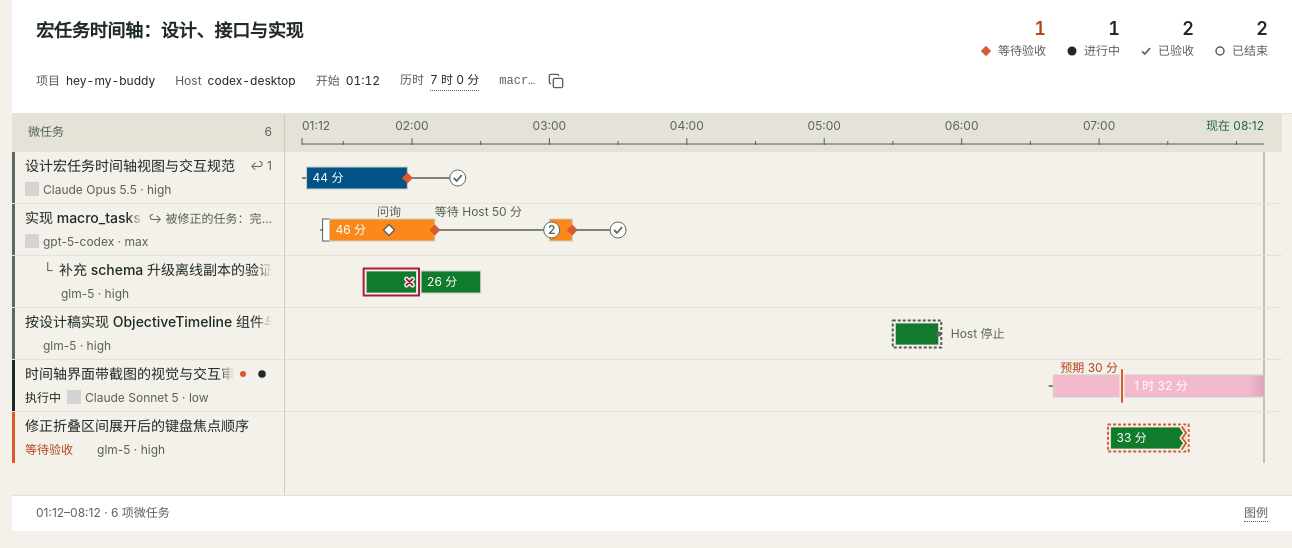
Test case: the lanes and the detail workspace › writes the repaired task title and reveals the full title with the buddy's identity on hover
The width and height of the screenshot is (1292, 548).
Expected: the text "↩ 1" is shown, 250,158 -> 272,174
Hover over the 4th button.
mouse_move(148, 228)  # box 12,202 -> 284,254
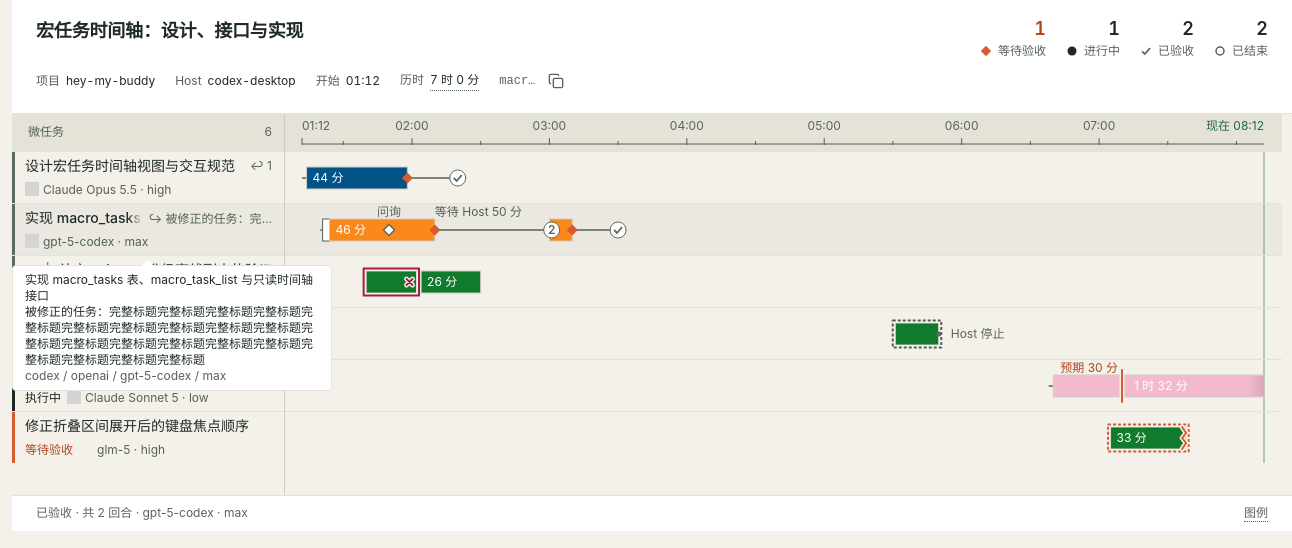
Result: the tooltip shows "codex / openai / gpt-5-codex / max" at 25,368 -> 226,383
